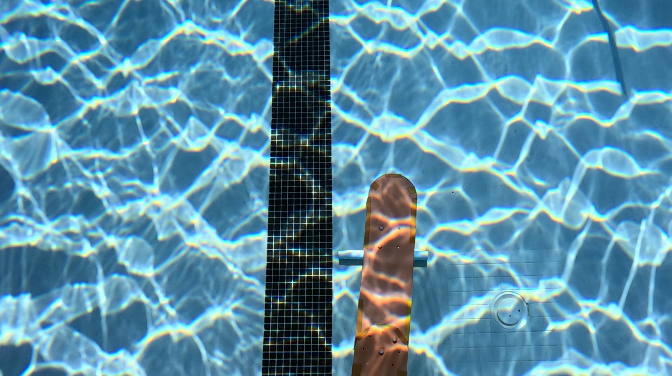pathmarker: (352, 174, 416, 375)
